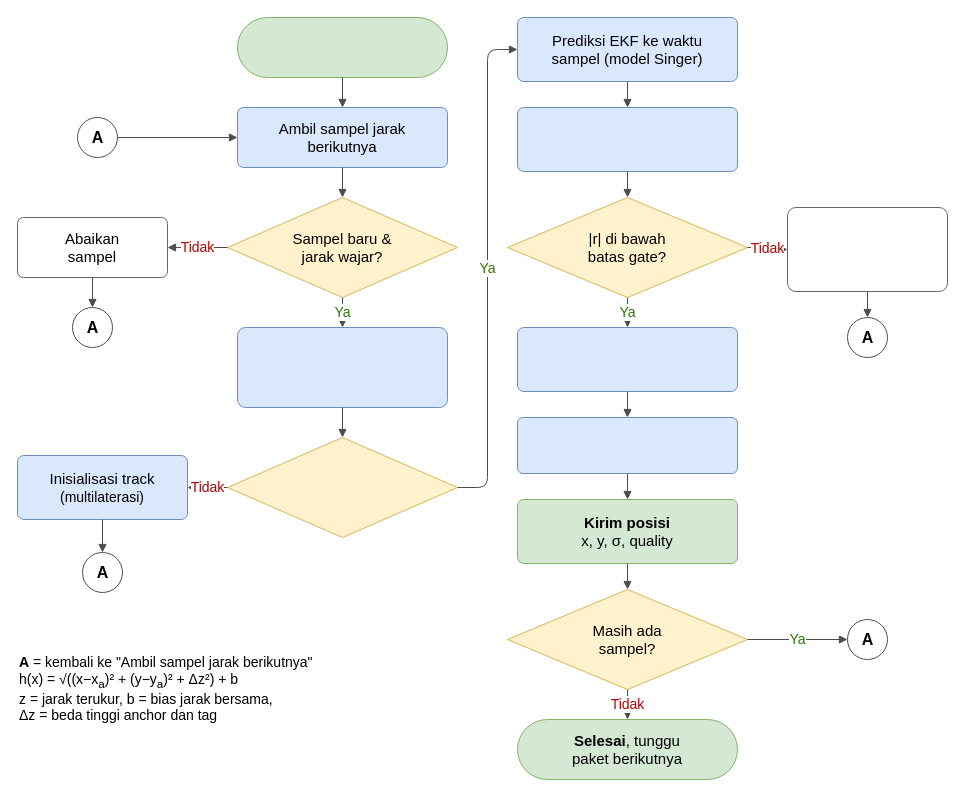
This 965x797 diagram has some shape labels left out. Each missing label, with the box of its shape:
Batasi posisi dalam ruangan: (516, 416, 738, 474)
Hitung residu r = z − h(x): (516, 106, 738, 172)
Konversi waktu device ke server + koreksi kalibrasi: (236, 326, 448, 408)
Paket telemetri tag (±5 Hz): (236, 16, 448, 78)
Tolak sampel bila >1,5 s semua ditolak: inisialisasi ulang: (786, 206, 948, 292)
Track tag sudah ada?: (226, 436, 458, 538)
Update EKF robust (bobot Huber): (516, 326, 738, 392)
